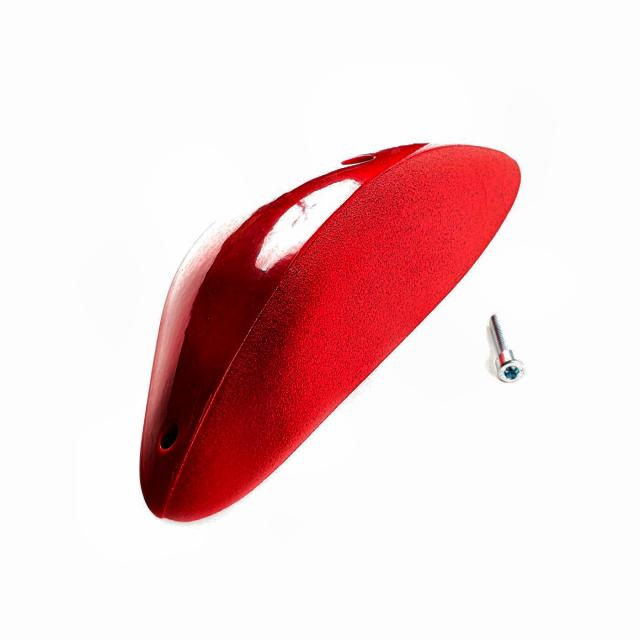Hold: (137, 133, 535, 532)
